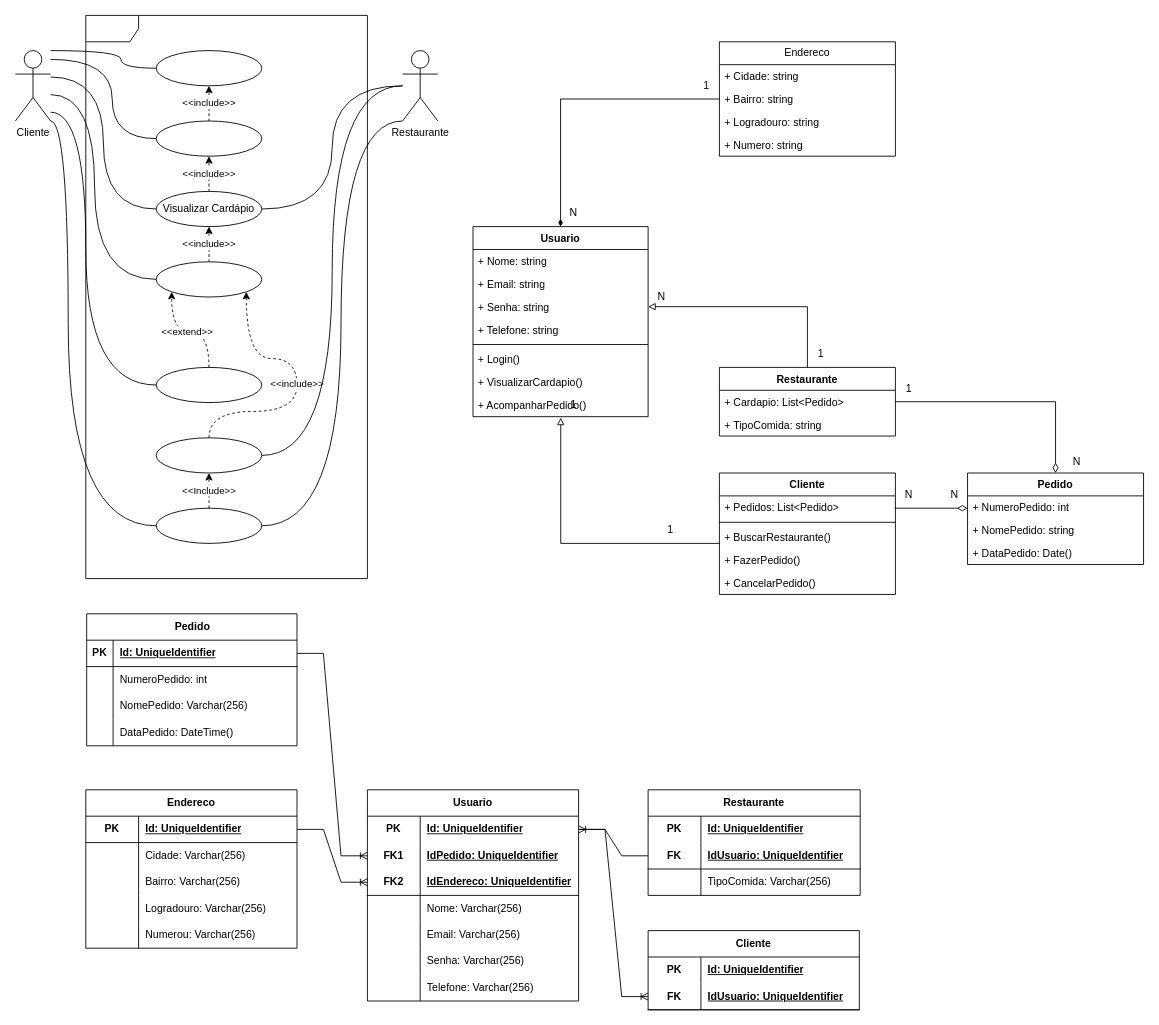
Image size: 1159x1025. Some labels were removed from this diagram. Each missing label, with the box of its shape:
Acompanhar Pedido: (155, 507, 262, 543)
Buscar Restaurante: (155, 120, 262, 156)
Cancelar Pedido: (155, 367, 262, 403)
Enviar Pedido: (155, 437, 262, 473)
Fazer Pedido: (155, 261, 262, 297)
Login: (155, 50, 262, 86)
Sistema: (85, 15, 367, 579)
